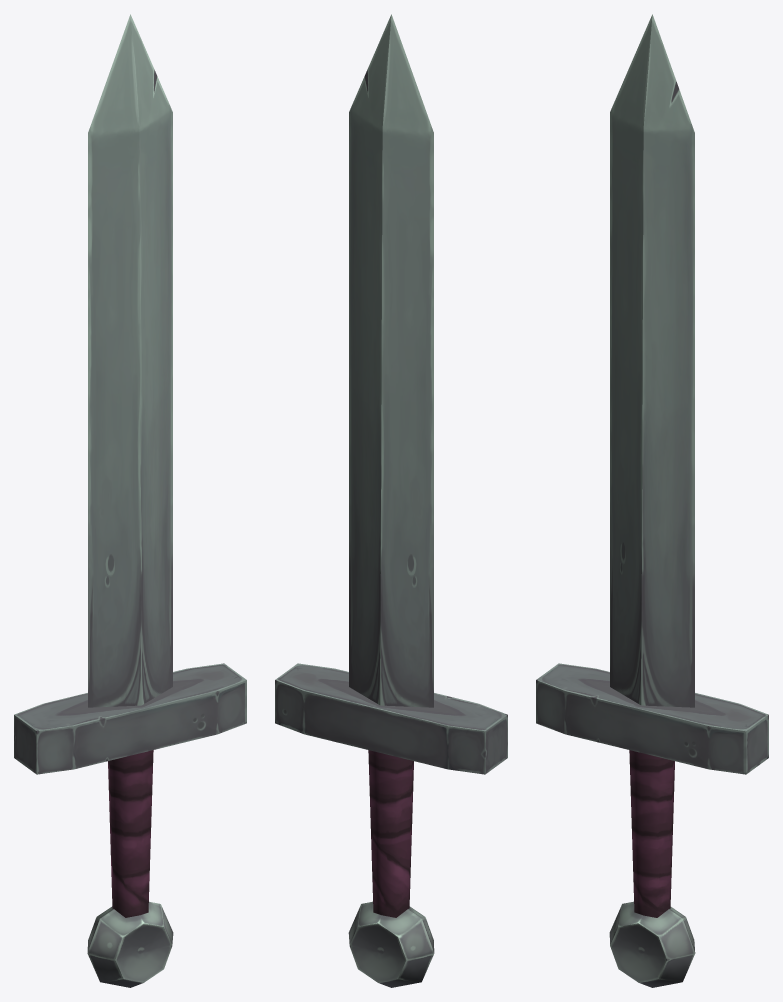
Rendered from sword.fbx.
3 views of the same model, side by side, from view 1: azimuth 30°, elevation 25°; view 2: azimuth 150°, elevation 25°; view 3: azimuth 330°, elevation 25° (orthographic).
Visible parts, largest first — view 1: Box002, Box001, Cylinder001, Cylinder002; view 2: Box002, Box001, Cylinder001, Cylinder002; view 3: Box002, Box001, Cylinder001, Cylinder002.
Boxes of the visible parts, box(x1,y1,x2,y2) form: Box002: box(88, 14, 172, 707); Box001: box(14, 663, 246, 774); Cylinder001: box(108, 750, 153, 917); Cylinder002: box(87, 901, 173, 987); Box002: box(349, 14, 433, 707); Box001: box(275, 663, 507, 774); Cylinder001: box(368, 750, 413, 917); Cylinder002: box(348, 901, 434, 987); Box002: box(610, 14, 694, 707); Box001: box(536, 663, 768, 774); Cylinder001: box(629, 750, 674, 917); Cylinder002: box(609, 901, 695, 987).
Bounding box in the file's own units: 41.31 × 183 × 10.46.
